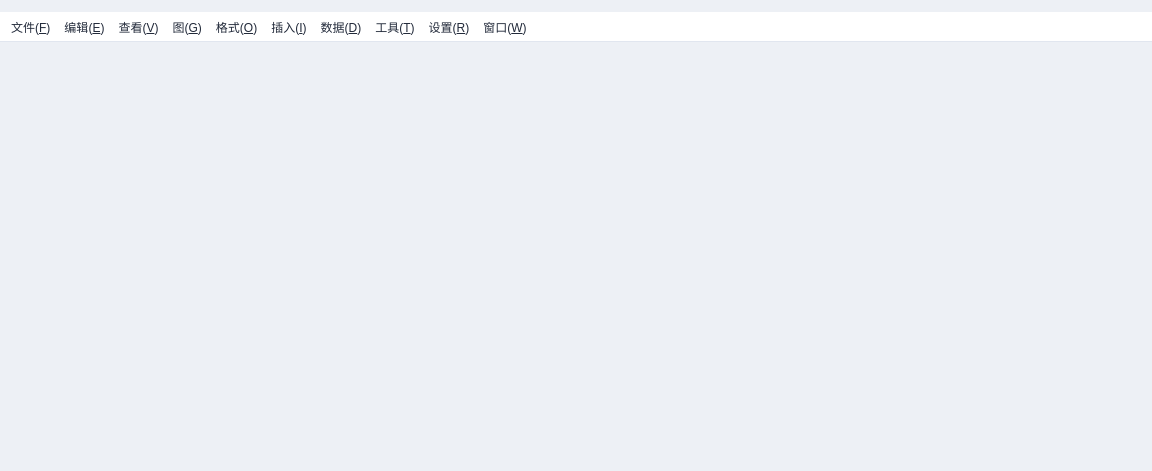
Test: OriginMenuBar › opens axis submenu by click and routes each axis dimension
The width and height of the screenshot is (1152, 471).
Click the button "格式(O)" at (236,26), box [209,12,264,40]
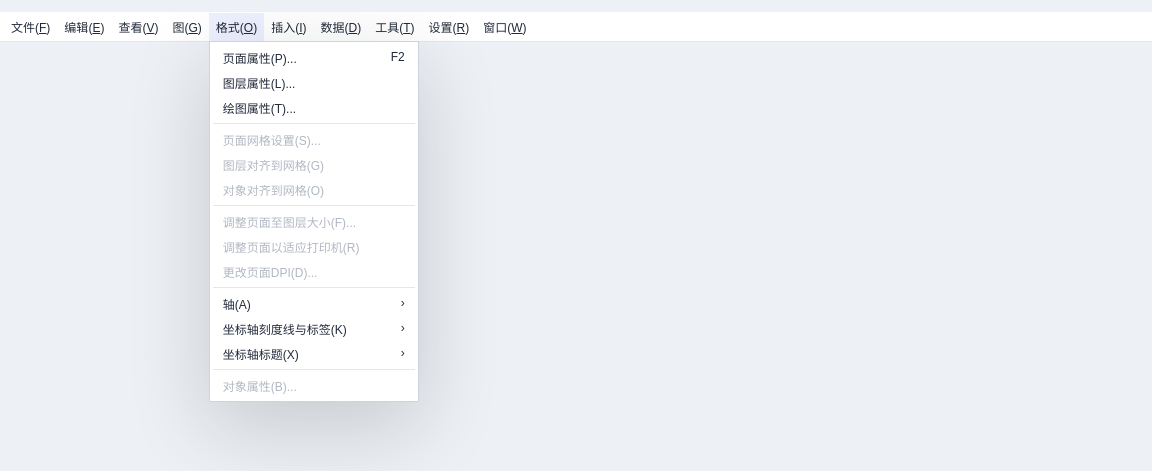
Click the menu item "轴(A) ›" at (314,303), box [213,290,415,316]
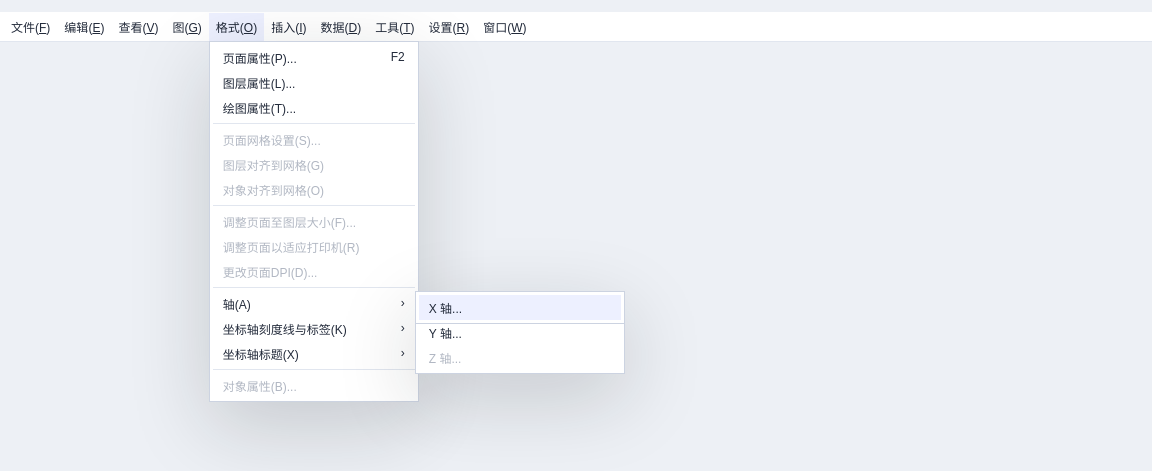
Click the menu item "Y 轴..." at (520,332), box [419,320,621,344]
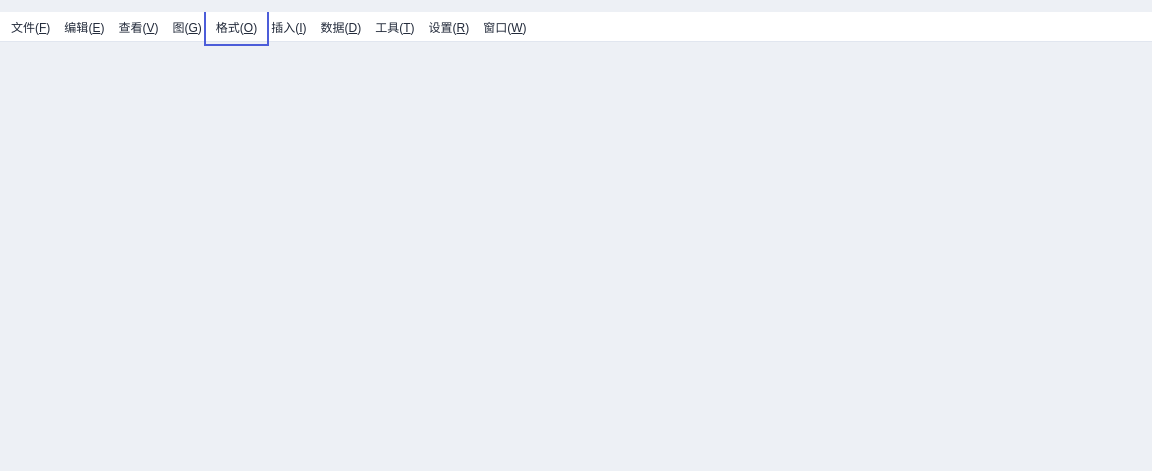
Now the menu is gone
